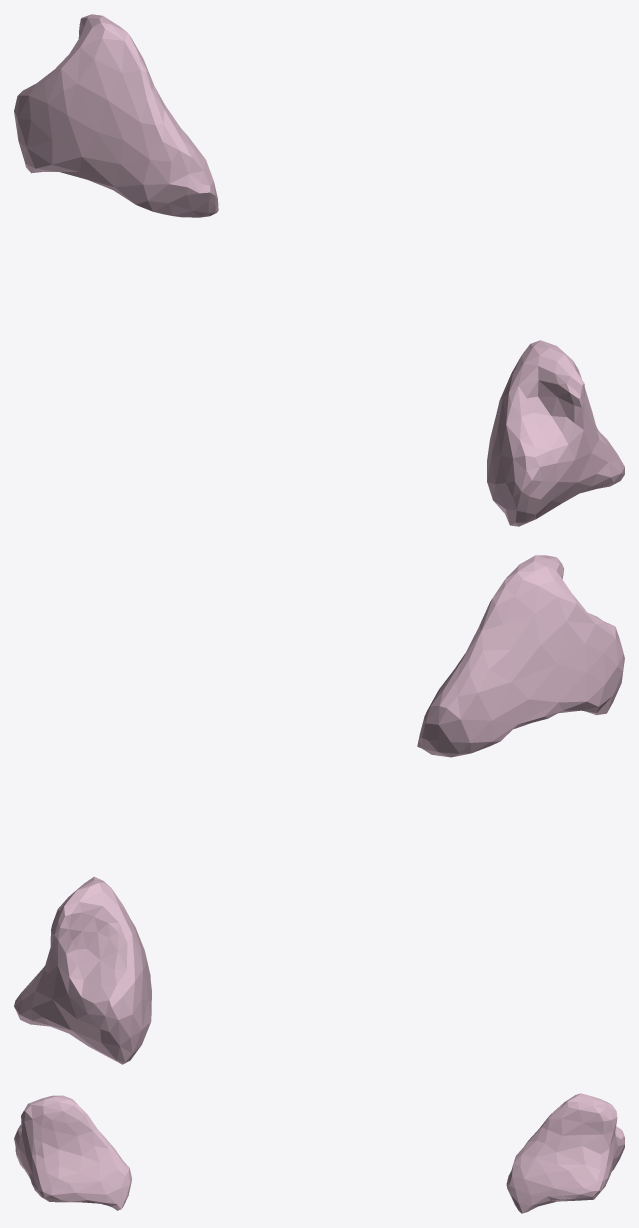
The picture shows the model from 3 angles, top to bottom: view 1: azimuth 30°, elevation 25°; view 2: azimuth 150°, elevation 25°; view 3: azimuth 270°, elevation 25°; orthographic projection. The views are drawn at different scales.
Parts seen in each view (by area): view 1: 209.obj; view 2: 209.obj; view 3: 209.obj.
Part boxes in pixels (x1,y1,x2,y2): 209.obj: (14,14,624,526); 209.obj: (14,555,624,1064); 209.obj: (14,1093,624,1213).
Bounding box in the file's own units: 622 × 746 × 4086.
